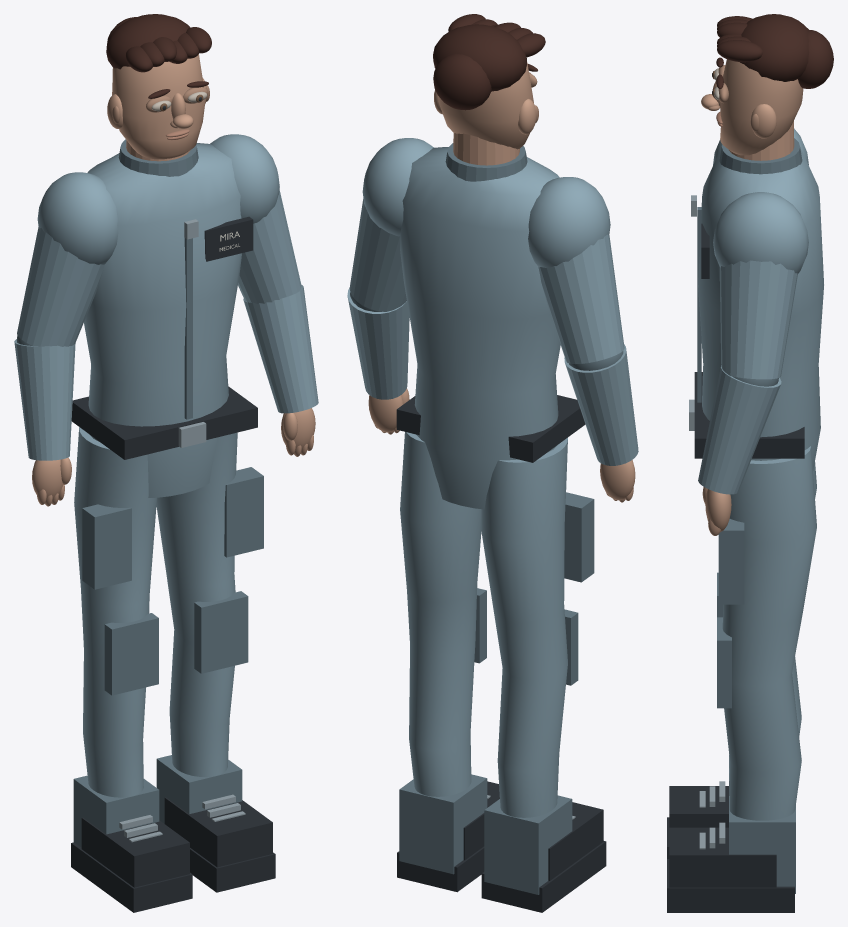
Rendered from Mira.glb.
3 renders of one model, left to right at view 1: azimuth 30°, elevation 25°; view 2: azimuth 150°, elevation 25°; view 3: azimuth 270°, elevation 25°, orthographic. The views are drawn at different scales.
Visible parts, largest first — view 1: Tailored torso.002, Trouser leg.004, Trouser leg.005, Upper sleeve.004, Head.002, Forearm sleeve.005, Forearm sleeve.004, Shoulder seam.004, Utility belt.002, Boot toe.004, Boot toe.005, Upper sleeve.005 (+15 smaller); view 2: Tailored torso.002, Trouser leg.004, Trouser leg.005, Upper sleeve.004, Boot ankle.005, Boot ankle.004, Shoulder seam.004, Forearm sleeve.004, Forearm sleeve.005, Upper sleeve.005, Shoulder seam.005, Scalp hair.001 (+14 smaller); view 3: Trouser leg.005, Tailored torso.002, Upper sleeve.005, Forearm sleeve.005, Shoulder seam.005, Boot toe.005, Head.002, Scalp hair.001, Boot sole.005, Boot ankle.005, Boot toe.004, Thigh tool pocket.005 (+11 smaller).
Boxes of the visible parts, left/top/right/bottom form: Tailored torso.002: left=84, top=143, right=241, bottom=497; Trouser leg.004: left=74, top=427, right=157, bottom=797; Trouser leg.005: left=156, top=432, right=237, bottom=776; Upper sleeve.004: left=17, top=226, right=104, bottom=346; Head.002: left=112, top=54, right=205, bottom=159; Forearm sleeve.005: left=243, top=285, right=318, bottom=413; Forearm sleeve.004: left=14, top=339, right=75, bottom=460; Shoulder seam.004: left=37, top=172, right=118, bottom=264; Utility belt.002: left=71, top=386, right=257, bottom=459; Boot toe.004: left=81, top=817, right=189, bottom=887; Boot toe.005: left=164, top=797, right=272, bottom=867; Upper sleeve.005: left=238, top=190, right=301, bottom=303; Tailored torso.002: left=400, top=147, right=560, bottom=509; Trouser leg.004: left=481, top=437, right=567, bottom=817; Trouser leg.005: left=400, top=432, right=481, bottom=796; Upper sleeve.004: left=538, top=234, right=624, bottom=364; Boot ankle.005: left=399, top=774, right=487, bottom=874; Boot ankle.004: left=484, top=795, right=572, bottom=894; Shoulder seam.004: left=528, top=177, right=610, bottom=267; Forearm sleeve.004: left=564, top=344, right=638, bottom=465; Forearm sleeve.005: left=347, top=288, right=409, bottom=399; Upper sleeve.005: left=349, top=199, right=406, bottom=311; Shoulder seam.005: left=362, top=138, right=433, bottom=236; Scalp hair.001: left=433, top=24, right=526, bottom=91; Trouser leg.005: left=722, top=446, right=816, bottom=820; Tailored torso.002: left=698, top=150, right=823, bottom=470; Upper sleeve.005: left=719, top=260, right=797, bottom=379; Forearm sleeve.005: left=698, top=365, right=781, bottom=494; Shoulder seam.005: left=713, top=192, right=808, bottom=273; Boot toe.005: left=669, top=827, right=776, bottom=887; Head.002: left=720, top=59, right=803, bottom=155; Scalp hair.001: left=740, top=14, right=809, bottom=81; Boot sole.005: left=667, top=859, right=794, bottom=912; Boot ankle.005: left=729, top=796, right=795, bottom=893; Boot toe.004: left=669, top=786, right=728, bottom=827; Thigh tool pocket.005: left=718, top=519, right=744, bottom=604.
Bounding box in the file's own units: 0.3747 × 1.1 × 0.1938.
